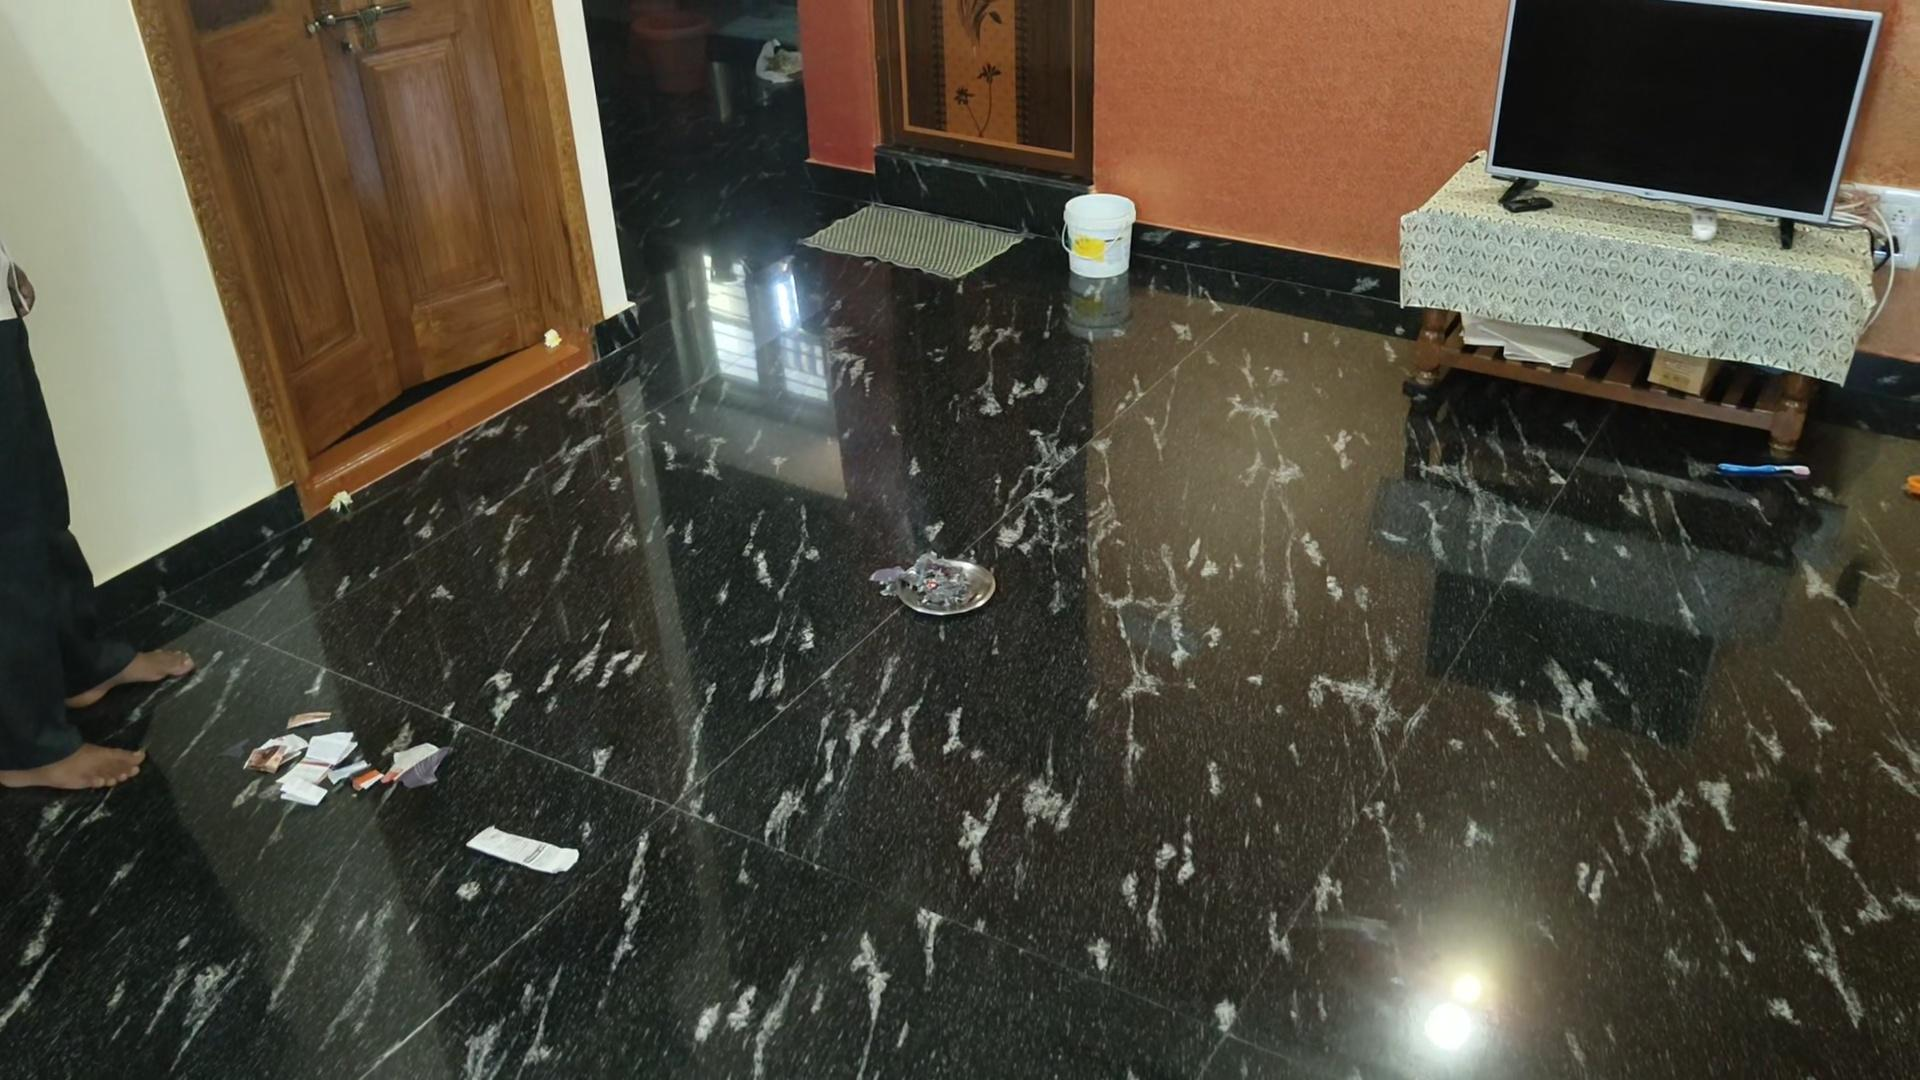Fire: (918, 568, 947, 596)
